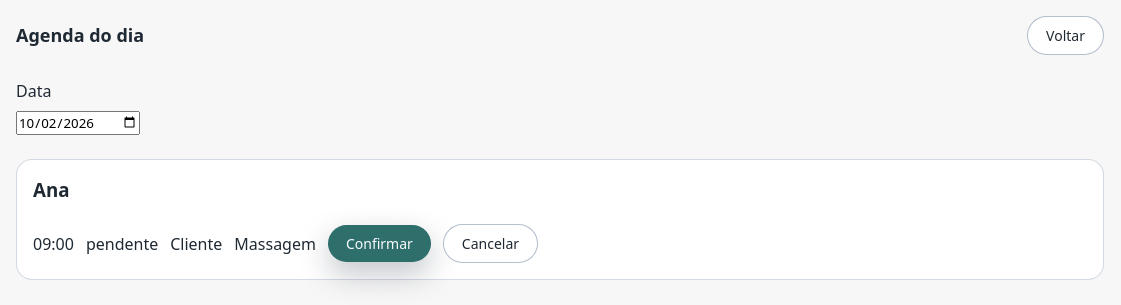
agenda_confirmar_shows_confirmado › agenda_confirmar_shows_confirmado
Click the button "Confirmar". click: (379, 244)
box: [328,225,431,262]
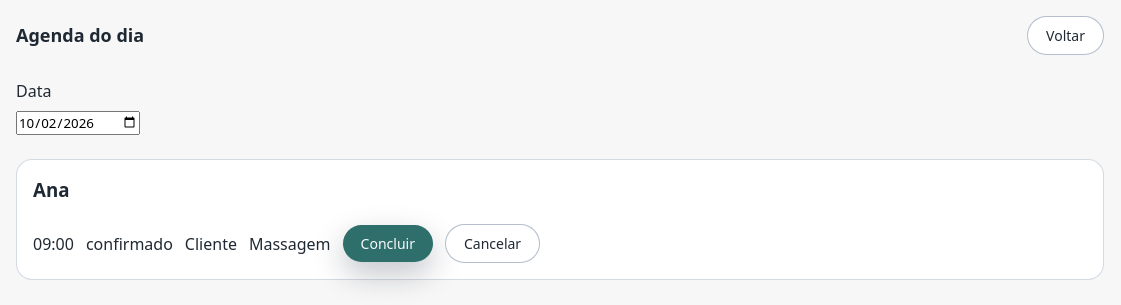
Expected: the text "confirmado" is shown, [86,232,173,256]
